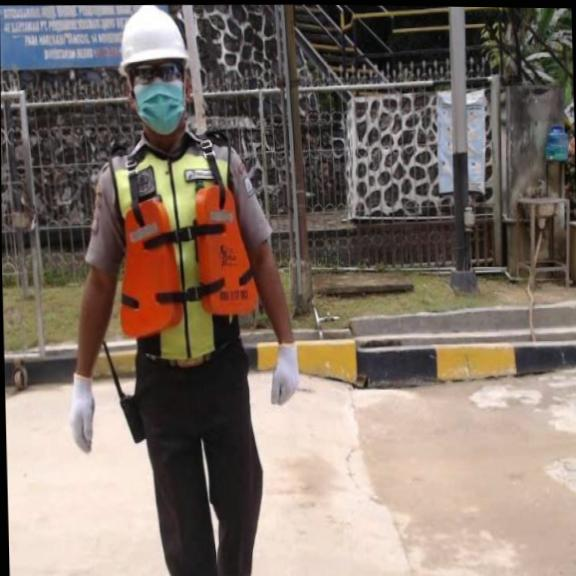safety_vest: (115, 177, 261, 347)
